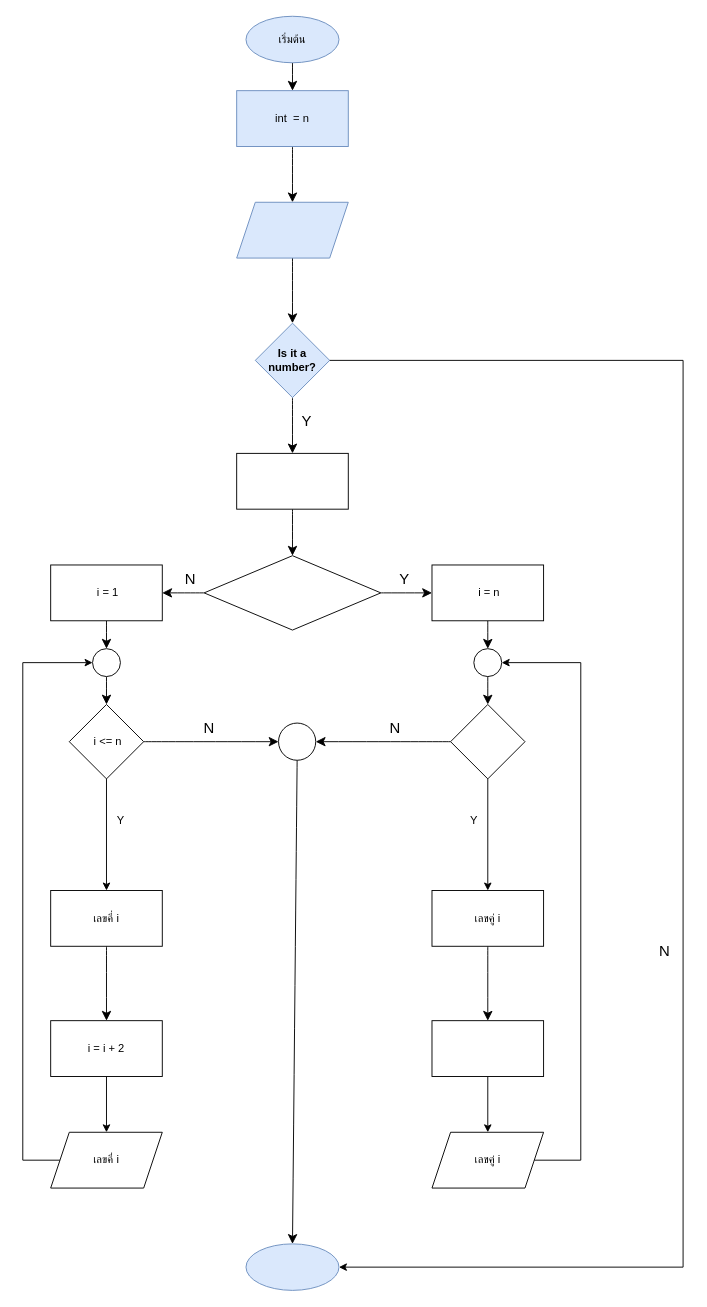
Some shapes in this 707 by 1307 pixel diagram are drawn without their labels. The centre of each missing label's shape, as x and y in pixels:
"Enter value :" goes at [292,229].
"i = i - 2" goes at [487,1048].
"i >= 0" goes at [487,741].
"Is it an even number ? N % 2 != 0" goes at [292,592].
"Series" goes at [292,480].
"จบ" goes at [292,1266].
